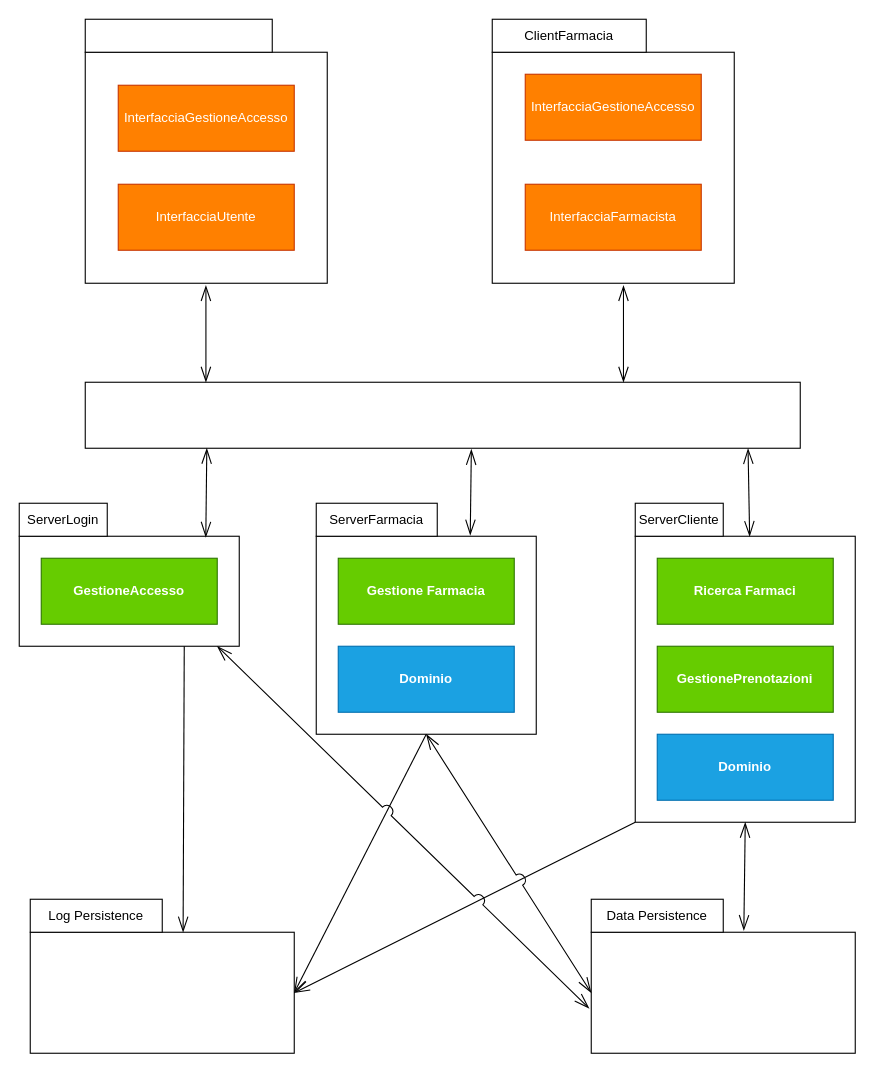
The diagram is 875 pixels wide and 1073 high, and some of its shapes have lost their labels. The shapes that lost their labels are listed below. From the top down, each one's centre as x and y in pixels, then its label:
At point 178,35: "ClientUtente".
At point 442,414: "Broker".
